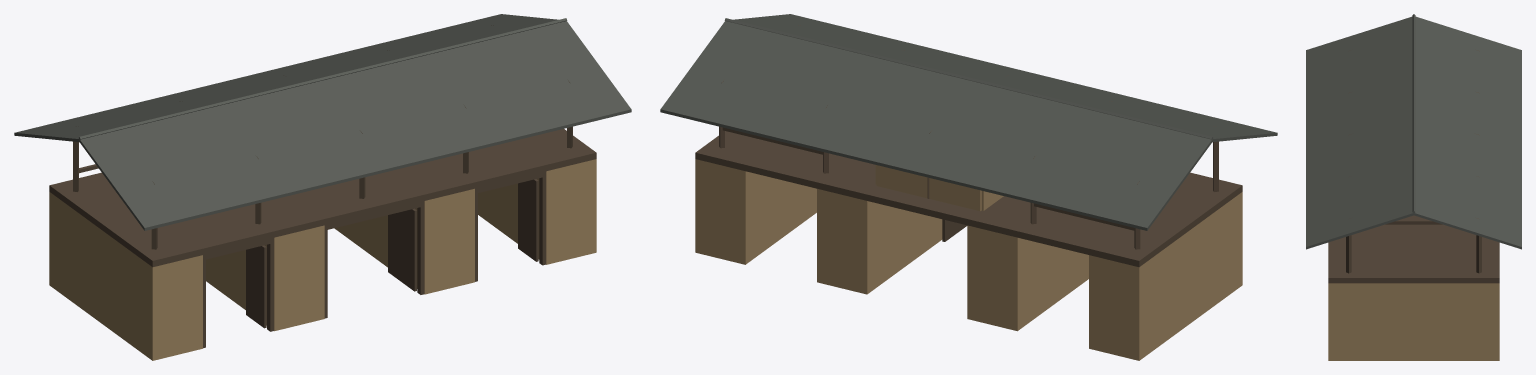
Rendered from kaiyang-K-LOD2.glb.
The picture shows the model from 3 angles, left to right: view 1: azimuth 30°, elevation 25°; view 2: azimuth 150°, elevation 25°; view 3: azimuth 270°, elevation 25°; orthographic projection. The views are drawn at different scales.
Visible parts, largest first — view 1: kaiyang-K-static_tile, kaiyang-K-static_earth, kaiyang-K-static_timber; view 2: kaiyang-K-static_tile, kaiyang-K-static_earth, kaiyang-K-static_timber; view 3: kaiyang-K-static_tile, kaiyang-K-static_earth, kaiyang-K-static_timber.
Boxes of the visible parts, x1=… form: kaiyang-K-static_tile: x1=14, y1=14, x2=631, y2=230; kaiyang-K-static_earth: x1=49, y1=159, x2=596, y2=360; kaiyang-K-static_timber: x1=49, y1=25, x2=596, y2=348; kaiyang-K-static_tile: x1=660, y1=14, x2=1277, y2=230; kaiyang-K-static_earth: x1=695, y1=159, x2=1242, y2=360; kaiyang-K-static_timber: x1=695, y1=25, x2=1242, y2=267; kaiyang-K-static_tile: x1=1306, y1=14, x2=1521, y2=249; kaiyang-K-static_earth: x1=1328, y1=283, x2=1499, y2=360; kaiyang-K-static_timber: x1=1328, y1=50, x2=1499, y2=283.
Size of the model in its own units: 27.2 by 10.23 by 12.6.
